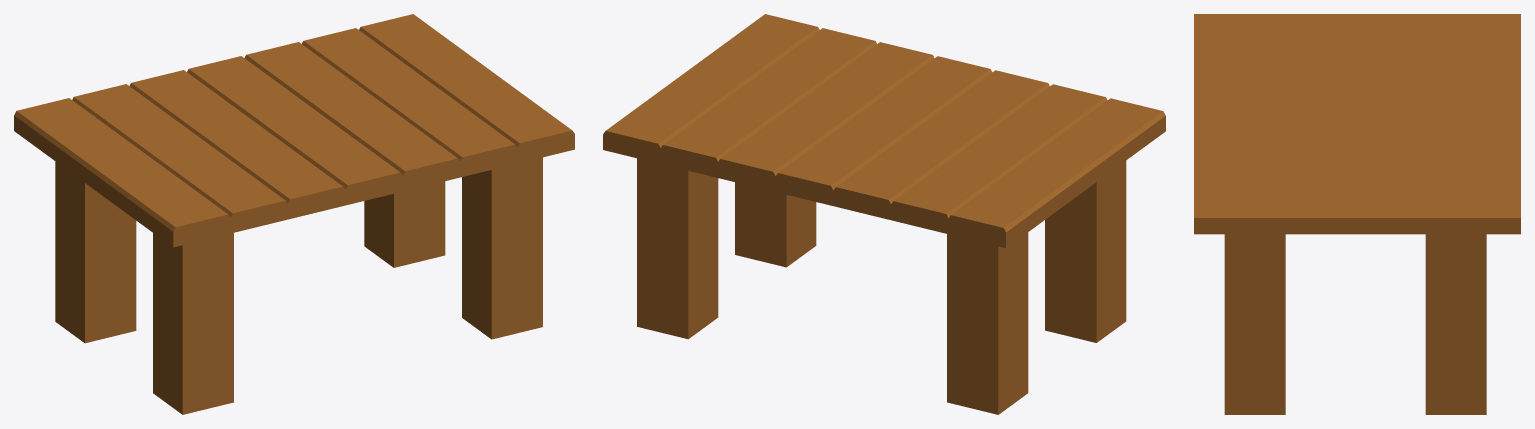
Rendered from bridge.fbx.
3 views of the same model, side by side, from view 1: azimuth 30°, elevation 25°; view 2: azimuth 150°, elevation 25°; view 3: azimuth 270°, elevation 25° (orthographic). The views are drawn at different scales.
Visible parts, largest first — view 1: Cube.030, Cube.029, pCube7, Cube.032, Bridge_G, pCube3, pCube1.001, pCube6, pCube5, pCube4, Cube.031; view 2: Cube.032, Cube.031, pCube7, Cube.030, Bridge_G, pCube3, pCube1.001, pCube6, pCube5, pCube4, Cube.029; view 3: pCube5, Cube.029, Cube.031, pCube1.001, pCube4, pCube6, Bridge_G, pCube3, pCube7.
Part boxes in pixels (bbox=[...]): Cube.030: bbox=[153, 233, 233, 414]; Cube.029: bbox=[462, 157, 542, 339]; pCube7: bbox=[14, 98, 230, 247]; Cube.032: bbox=[55, 161, 136, 343]; Bridge_G: bbox=[187, 56, 402, 205]; pCube3: bbox=[244, 42, 460, 191]; pCube1.001: bbox=[129, 70, 345, 219]; pCube6: bbox=[72, 84, 287, 233]; pCube5: bbox=[359, 14, 574, 163]; pCube4: bbox=[302, 28, 517, 177]; Cube.031: bbox=[364, 181, 445, 267]; Cube.032: bbox=[947, 232, 1028, 414]; Cube.031: bbox=[637, 158, 718, 339]; pCube7: bbox=[948, 98, 1165, 248]; Cube.030: bbox=[1045, 161, 1126, 342]; Bridge_G: bbox=[775, 56, 992, 205]; pCube3: bbox=[718, 42, 934, 191]; pCube1.001: bbox=[833, 70, 1049, 219]; pCube6: bbox=[891, 84, 1107, 234]; pCube5: bbox=[603, 14, 819, 163]; pCube4: bbox=[660, 28, 876, 177]; Cube.029: bbox=[735, 182, 816, 267]; pCube5: bbox=[1194, 186, 1520, 234]; Cube.029: bbox=[1224, 234, 1285, 414]; Cube.031: bbox=[1425, 234, 1486, 414]; pCube1.001: bbox=[1194, 71, 1520, 100]; pCube4: bbox=[1194, 157, 1520, 186]; pCube6: bbox=[1194, 42, 1520, 71]; Bridge_G: bbox=[1194, 100, 1520, 128]; pCube3: bbox=[1194, 129, 1520, 157]; pCube7: bbox=[1194, 14, 1520, 42].
Size of the model in its own units: 3094 by 1501 by 2124.
